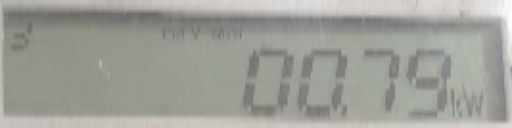0: (241, 35, 293, 119), (300, 35, 352, 119)
7: (352, 35, 404, 119)
9: (402, 33, 454, 117)
d: (339, 110, 348, 119)
